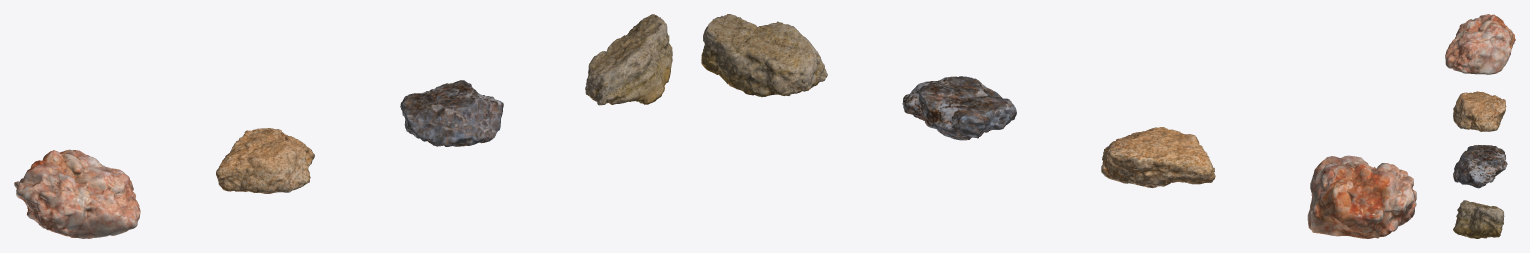
File: desert_hero_rocks.glb
3 renders of one model, left to right at view 1: azimuth 30°, elevation 25°; view 2: azimuth 150°, elevation 25°; view 3: azimuth 270°, elevation 25°, orthographic. The views are drawn at different scales.
Parts seen in each view (by area): view 1: namaqualand_rocks_02_a, namaqualand_rocks_02_d, namaqualand_rocks_02_c, namaqualand_rocks_02_b; view 2: namaqualand_rocks_02_d, namaqualand_rocks_02_a, namaqualand_rocks_02_b, namaqualand_rocks_02_c; view 3: namaqualand_rocks_02_a, namaqualand_rocks_02_b, namaqualand_rocks_02_c, namaqualand_rocks_02_d.
Part boxes in pixels (x1=…): namaqualand_rocks_02_a: x1=14, y1=149, x2=140, y2=238; namaqualand_rocks_02_d: x1=585, y1=14, x2=672, y2=105; namaqualand_rocks_02_c: x1=400, y1=80, x2=503, y2=146; namaqualand_rocks_02_b: x1=216, y1=128, x2=314, y2=193; namaqualand_rocks_02_d: x1=701, y1=14, x2=827, y2=97; namaqualand_rocks_02_a: x1=1307, y1=155, x2=1416, y2=238; namaqualand_rocks_02_b: x1=1101, y1=127, x2=1215, y2=188; namaqualand_rocks_02_c: x1=902, y1=76, x2=1016, y2=140; namaqualand_rocks_02_a: x1=1445, y1=14, x2=1515, y2=74; namaqualand_rocks_02_b: x1=1453, y1=91, x2=1506, y2=131; namaqualand_rocks_02_c: x1=1453, y1=145, x2=1507, y2=188; namaqualand_rocks_02_d: x1=1453, y1=200, x2=1504, y2=238.
Bounding box in the file's own units: 1.45 × 0.1525 × 0.217.
1 material, 1 textured.
